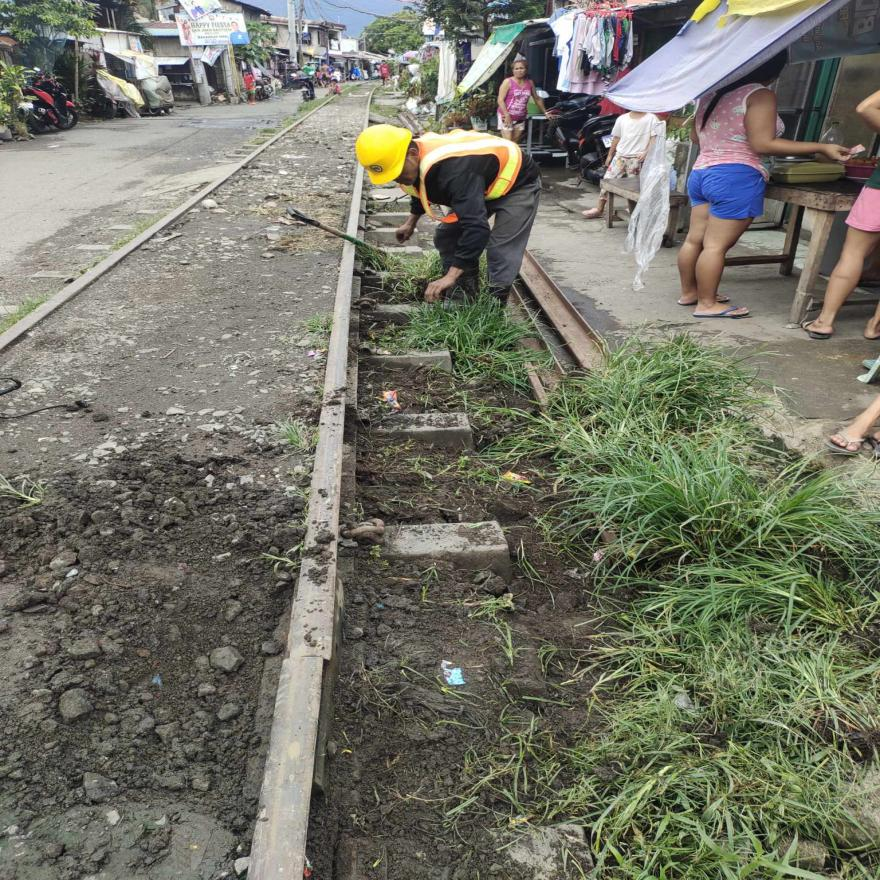railway-gap: (268, 626, 350, 690)
